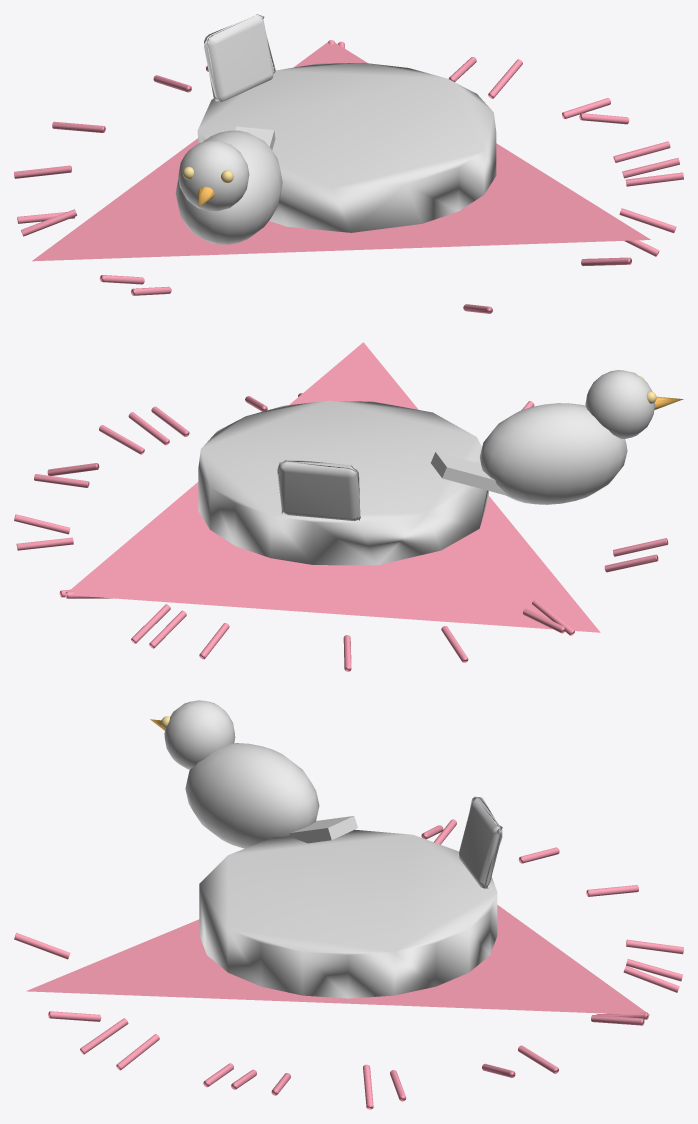
Rendered from ScarecrowHat.glb.
3 views of the same model, one above another, from view 1: azimuth 30°, elevation 25°; view 2: azimuth 150°, elevation 25°; view 3: azimuth 270°, elevation 25° (orthographic). The views are drawn at different scales.
Visible parts, largest first — view 1: Hatband, Straw, Crow, Patch; view 2: Straw, Hatband, Crow, Patch; view 3: Hatband, Straw, Crow, Patch.
Part boxes in pixels (x1,y1,x2,y2): Hatband: (197, 62, 496, 232); Straw: (14, 40, 683, 313); Crow: (175, 126, 282, 244); Patch: (204, 14, 275, 101); Straw: (14, 342, 668, 671); Hatband: (198, 400, 488, 565); Crow: (431, 370, 655, 504); Patch: (277, 459, 360, 521); Hatband: (199, 829, 497, 998); Straw: (14, 819, 683, 1109); Crow: (164, 700, 357, 848); Patch: (458, 796, 502, 888).
Bounding box in the file's own units: 2.79 × 0.7876 × 2.79.
